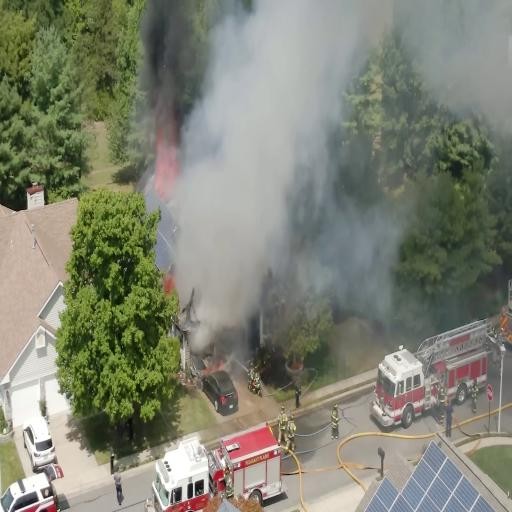fire: (154, 133, 180, 197)
smoke: (184, 133, 275, 326), (224, 16, 304, 185), (148, 0, 190, 115)
